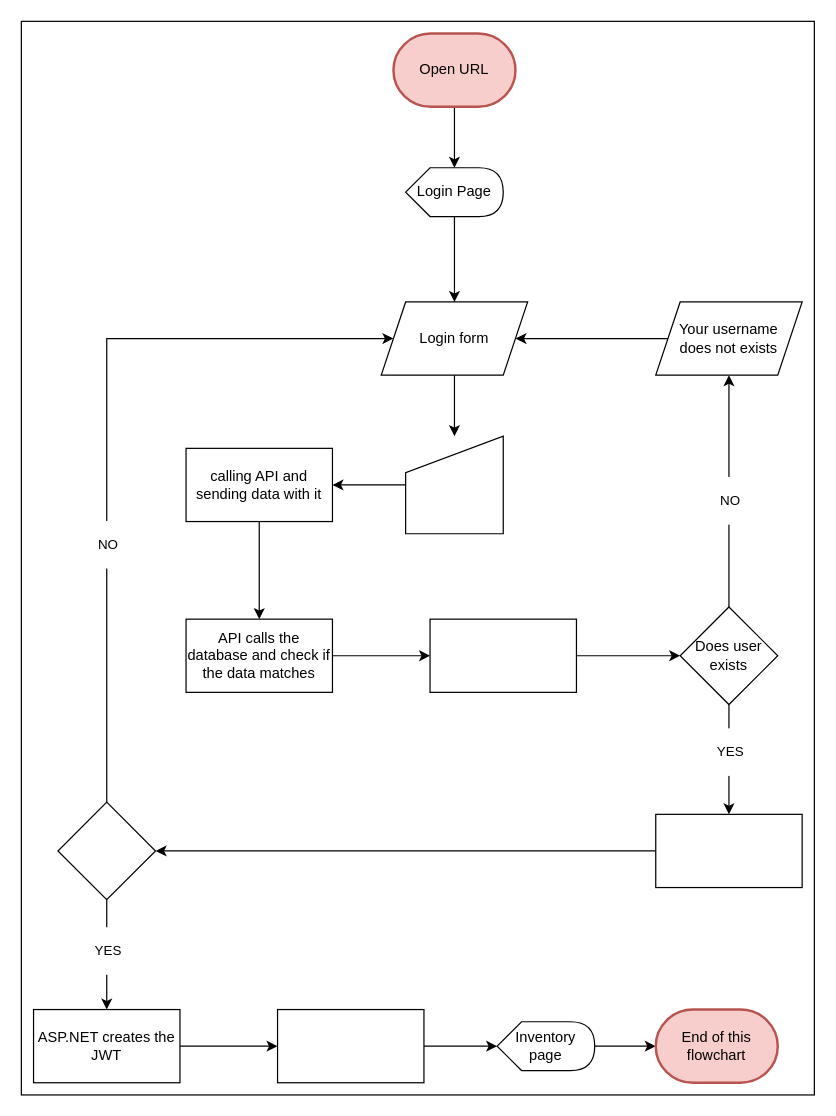
This 836x1116 diagram has some shape labels left out. Each missing label, with the centre of its shape:
"Does the Password matches" goes at [106,850].
"insert user name and password" goes at [453,484].
"procedure checks if the hashed password matches" goes at [728,850].
"React takes the token and save it into the local storage" goes at [350,1045].
"stored procedure checks the data" goes at [502,655].
